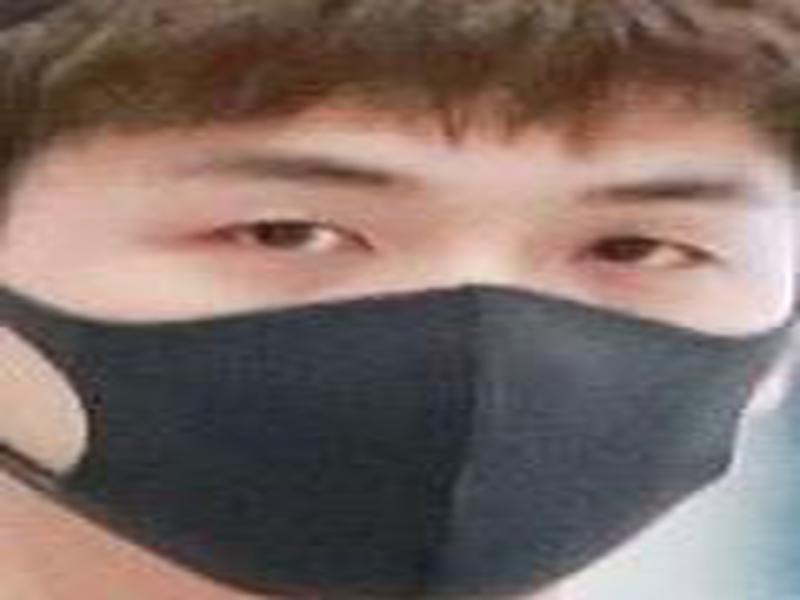with_mask: (1, 5, 797, 600)
